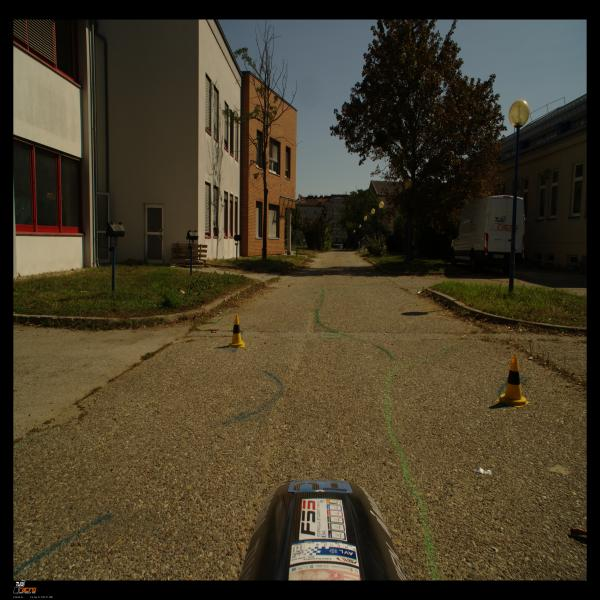yellow_cone: (496, 355, 530, 408), (227, 315, 245, 349)
